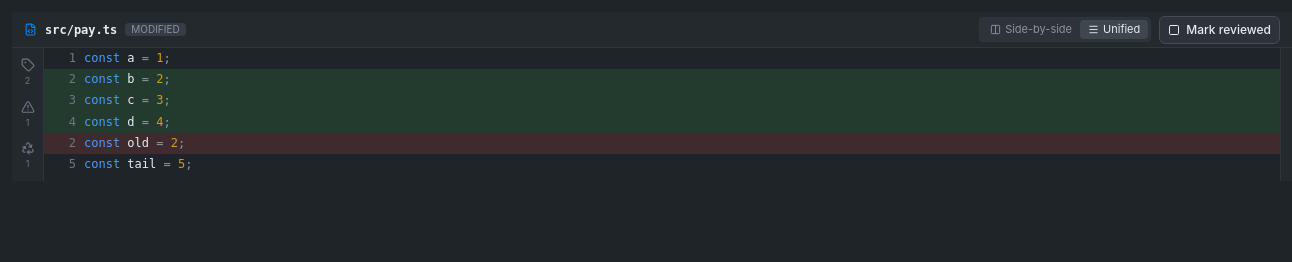
ReviewDiffPane › leaves the diff entirely while a chip is in flight
Click the button with test id "review-tag-rail-tags" at coordinates (28, 73), box [14,54,42,92]
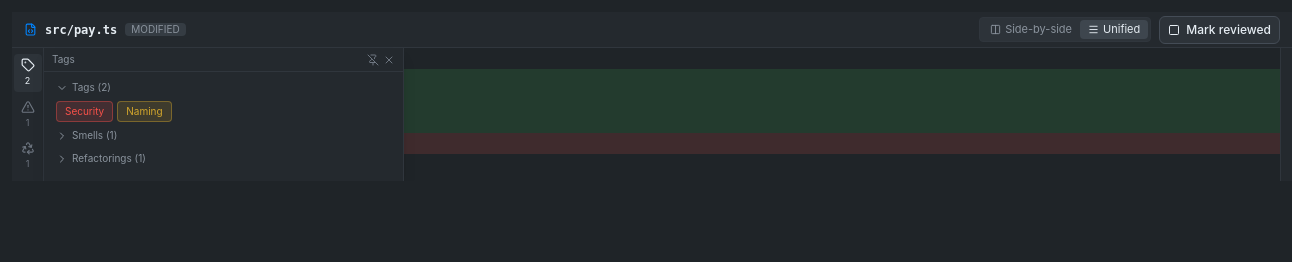
Now the element with test id "review-tag-flyout" is shown, box [44,48,404,180]
Press the mouse on the button "Security" at coordinates (85, 112), box [56,101,113,122]
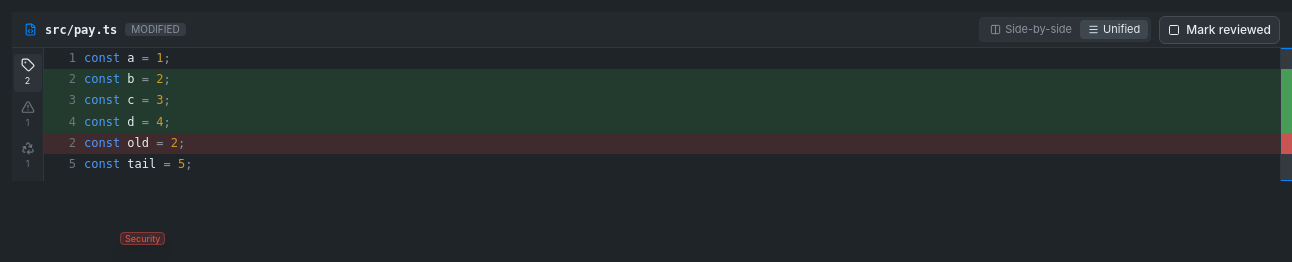
Expected: the button with test id "review-tag-rail-tags" is shown, [14,54,42,92]
Now the element with test id "review-tag-flyout" is gone
